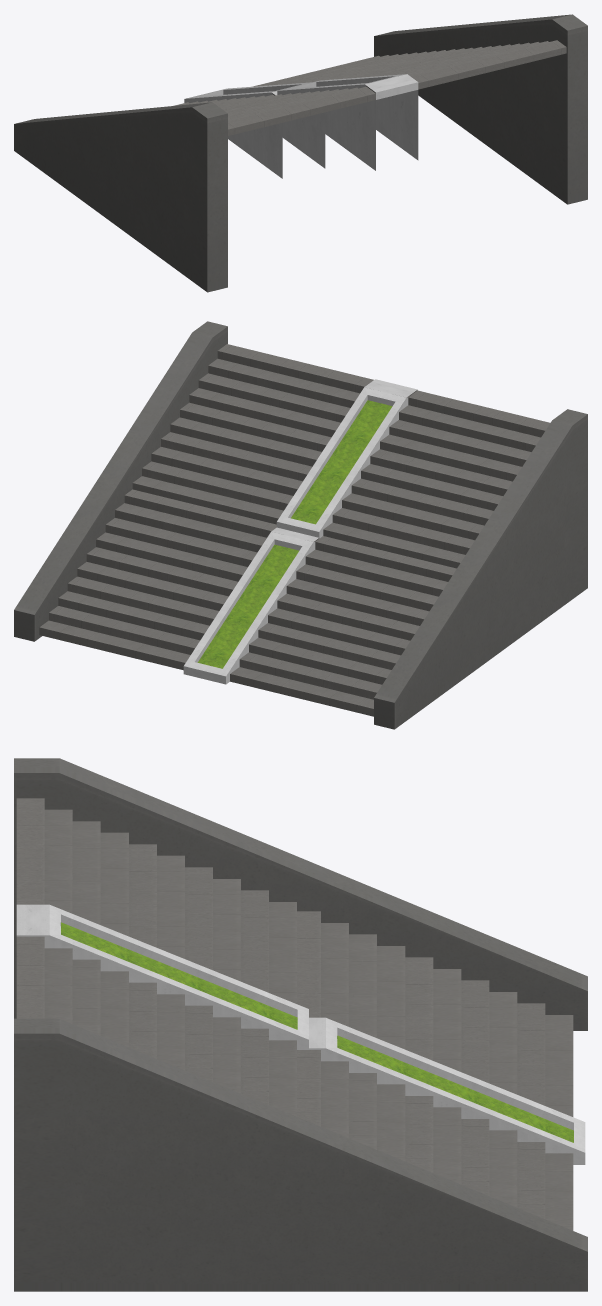
The model's file is BilldingStair_H.fbx.
The picture shows the model from 3 angles, top to bottom: view 1: azimuth 30°, elevation 25°; view 2: azimuth 150°, elevation 25°; view 3: azimuth 270°, elevation 25°; orthographic projection. The views are drawn at different scales.
Visible parts, largest first — view 1: BilldingStair_H; view 2: BilldingStair_H; view 3: BilldingStair_H.
Part boxes in pixels (left/top/right/bottom): BilldingStair_H: left=14, top=14, right=587, bottom=292; BilldingStair_H: left=14, top=321, right=587, bottom=729; BilldingStair_H: left=14, top=758, right=587, bottom=1291.
Bounding box in the file's own units: 1335 × 583 × 1176.
4 materials, 4 textured.
